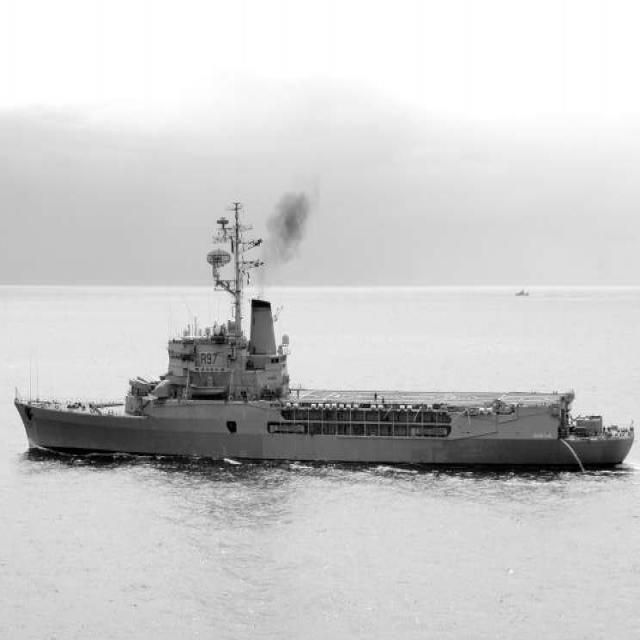Portanaves: (9, 192, 640, 474)
